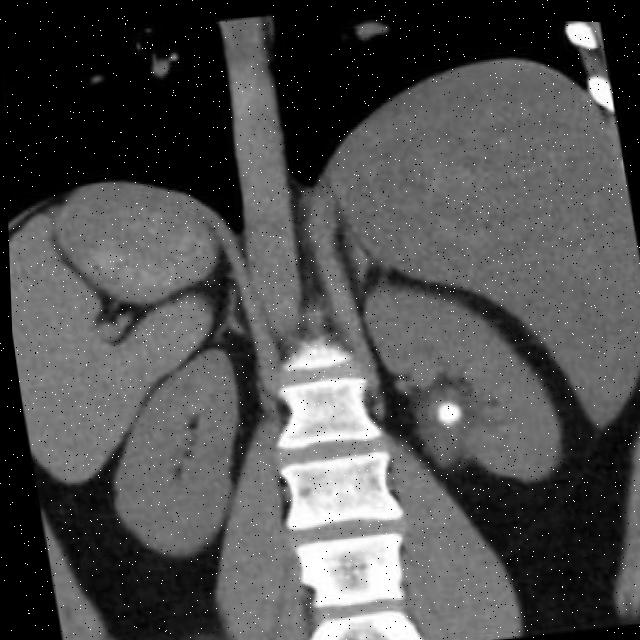Tas_Var: (425, 385, 471, 430)
